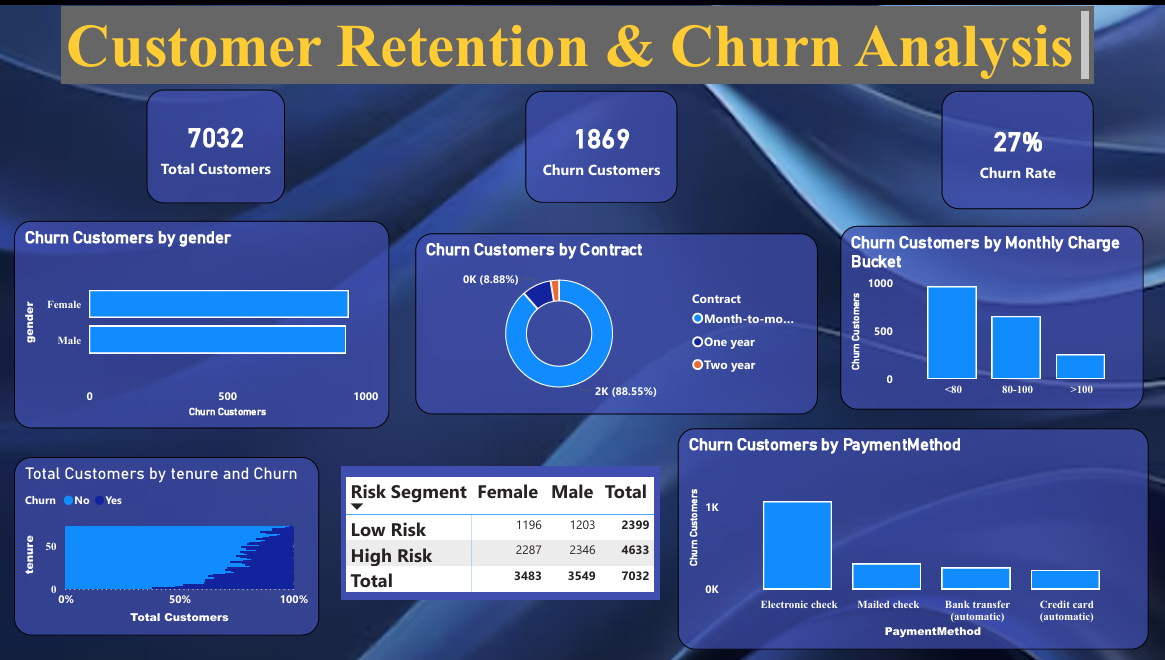

This screenshot's page, from the dashboard's own definition file:
{"tool":"powerbi","page":{"name":"Page 1","canvas":[1280,720],"ordinal":0},"visuals":[{"type":"card","fields":{"Values":["Measure.Total Customers"]},"box":[161.9,101.5,138.6,124.9],"z":0},{"type":"card","fields":{"Values":["Measure.Churn Rate"]},"box":[1034.7,102.9,167.4,130.4],"z":1000},{"type":"card","fields":{"Values":["Measure.Churn Customers"]},"box":[577.7,102.9,167.4,123.5],"z":2000},{"type":"barChart","fields":{"Y":["Measure.Churn Customers"],"Category":["Customer_Churn_Data.gender"]},"box":[16.5,245.6,411.7,227.8],"z":3000},{"type":"donutChart","fields":{"Category":["Customer_Churn_Data.Contract"],"Y":["Measure.Churn Customers"]},"box":[456.9,259.3,441.9,199],"z":4000},{"type":"clusteredColumnChart","fields":{"Category":["Customer_Churn_Data.PaymentMethod"],"Y":["Measure.Churn Customers"]},"box":[745.1,473.4,517.3,242.9],"z":5000},{"type":"clusteredColumnChart","fields":{"Category":["Customer_Churn_Data.Monthly Charge Bucket"],"Y":["Measure.Churn Customers"]},"box":[923.5,251.1,333.4,201.7],"z":6000},{"type":"hundredPercentStackedBarChart","fields":{"Category":["Customer_Churn_Data.tenure"],"Y":["Measure.Total Customers"],"Series":["Customer_Churn_Data.Churn"]},"box":[16.5,505,334.8,196.2],"z":7000},{"type":"pivotTable","fields":{"Rows":["Customer_Churn_Data.Risk Segment"],"Columns":["Customer_Churn_Data.gender"],"Values":["Measure.Total Customers"]},"box":[376,516,349.9,146.8],"z":8000},{"type":"textbox","box":[68.6,11,1133.5,85.1],"z":9000}]}

Visuals, with their boxes in screenshot pixels (x1, y1, x2, y2), scaled from the page's 1280x720 canvas onto the 1165x660 screenshot:
card - Measure.Total Customers: <box>147,93,274,208</box>
card - Measure.Churn Rate: <box>942,94,1094,214</box>
card - Measure.Churn Customers: <box>526,94,678,208</box>
barChart - Measure.Churn Customers x Customer_Churn_Data.gender: <box>15,225,390,434</box>
donutChart - Customer_Churn_Data.Contract x Measure.Churn Customers: <box>416,238,818,420</box>
clusteredColumnChart - Customer_Churn_Data.PaymentMethod x Measure.Churn Customers: <box>678,434,1149,657</box>
clusteredColumnChart - Customer_Churn_Data.Monthly Charge Bucket x Measure.Churn Customers: <box>841,230,1144,415</box>
hundredPercentStackedBarChart - Customer_Churn_Data.tenure x Measure.Total Customers: <box>15,463,320,643</box>
pivotTable - Customer_Churn_Data.Risk Segment x Customer_Churn_Data.gender: <box>342,473,661,608</box>
textbox: <box>62,10,1094,88</box>
